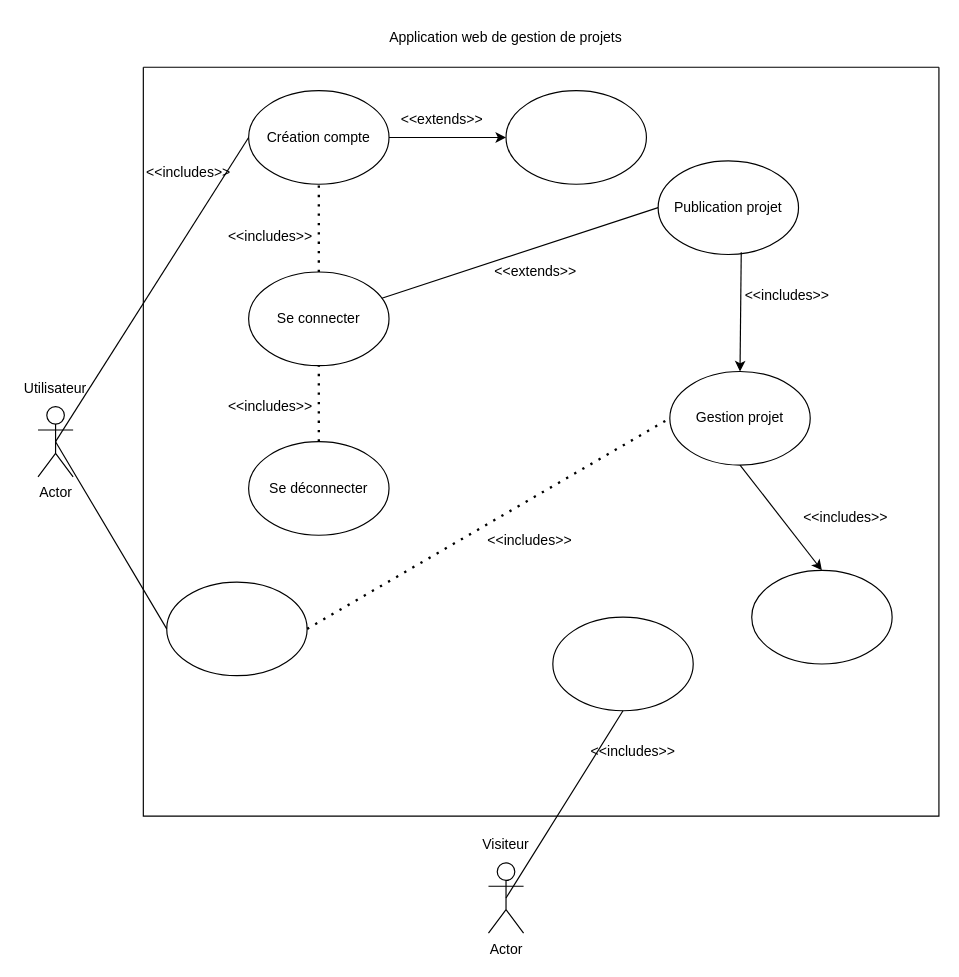
The diagram is 959 pixels wide and 977 high, and some of its shapes have lost their labels. Each missing label, with the box of its shape:
Consulter projet d'utilisateur: (552, 616, 693, 711)
Gestion tâches: (166, 581, 307, 676)
Renseigner informations: (505, 90, 646, 184)
Supprimer projet: (751, 569, 892, 664)
